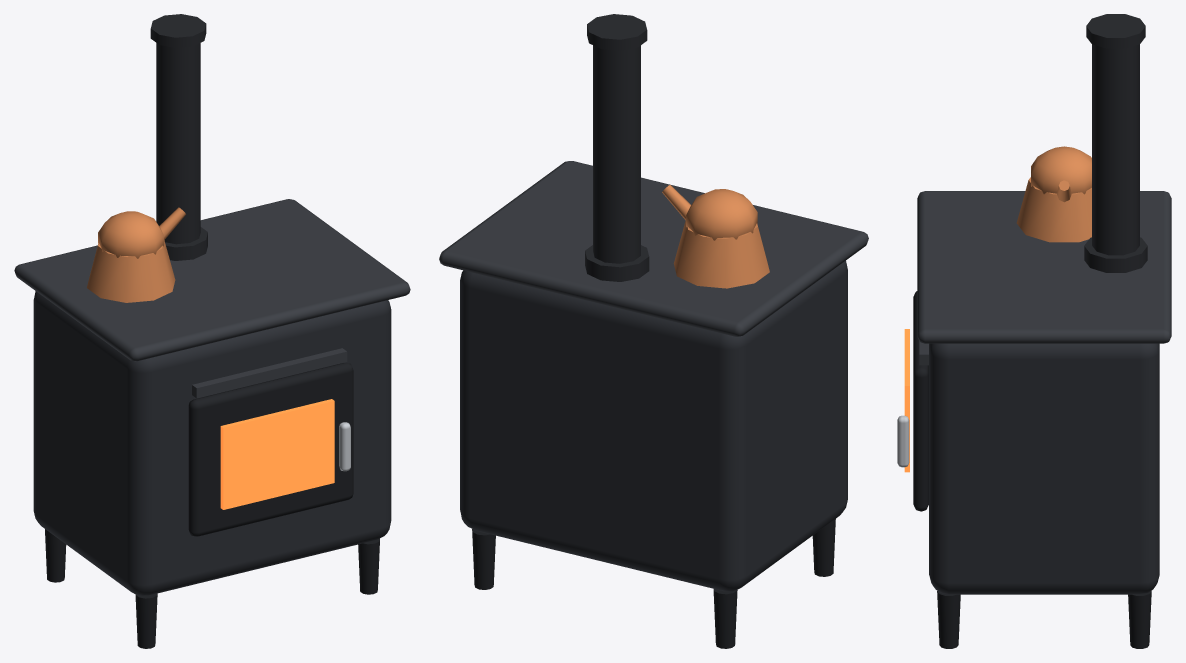
File: stove-wood.glb
The picture shows the model from 3 angles, left to right: view 1: azimuth 30°, elevation 25°; view 2: azimuth 150°, elevation 25°; view 3: azimuth 270°, elevation 25°; orthographic projection. The views are drawn at different scales.
Size of the model in its own units: 0.86 by 1.56 by 0.69.
